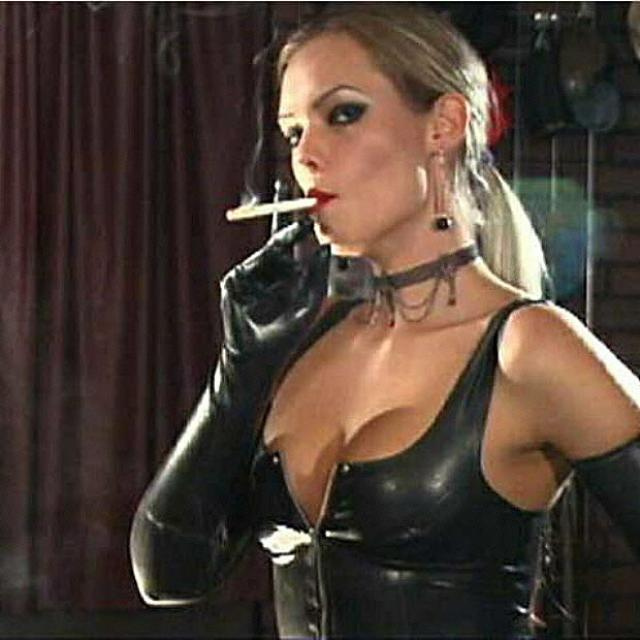rokok: (218, 190, 322, 224)
